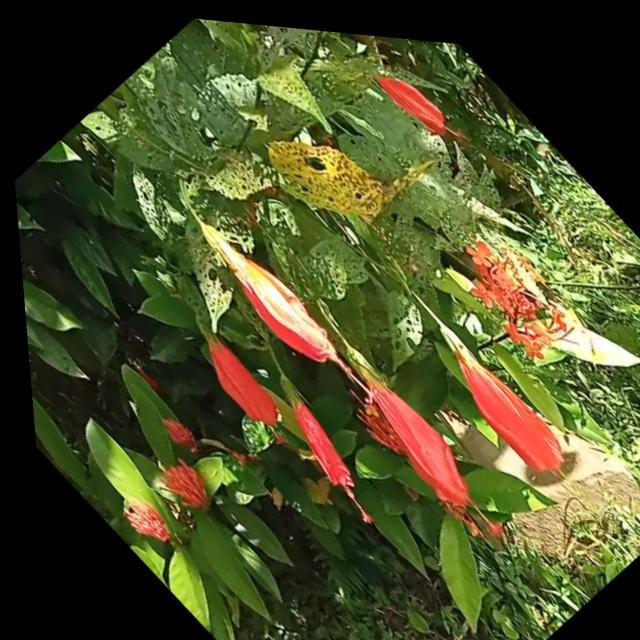Flower: (310, 324, 522, 546), (408, 303, 585, 488), (178, 202, 349, 381), (240, 360, 399, 526), (165, 308, 301, 450), (362, 40, 464, 146)
